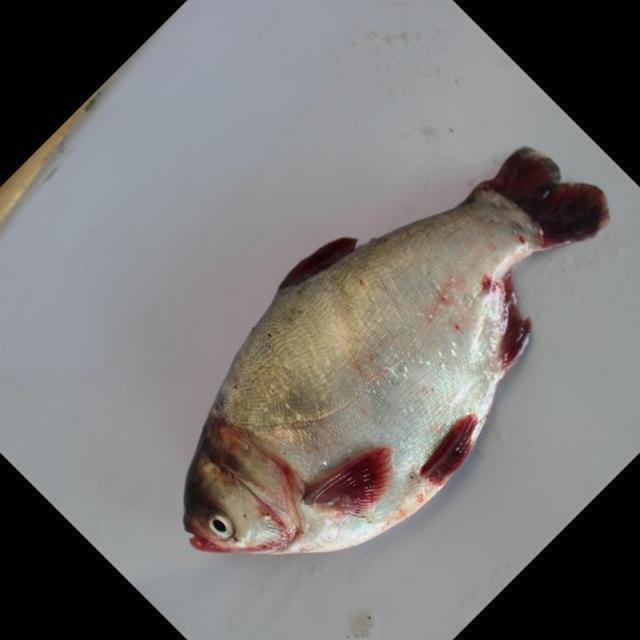Silver Carp: (164, 148, 619, 557)
